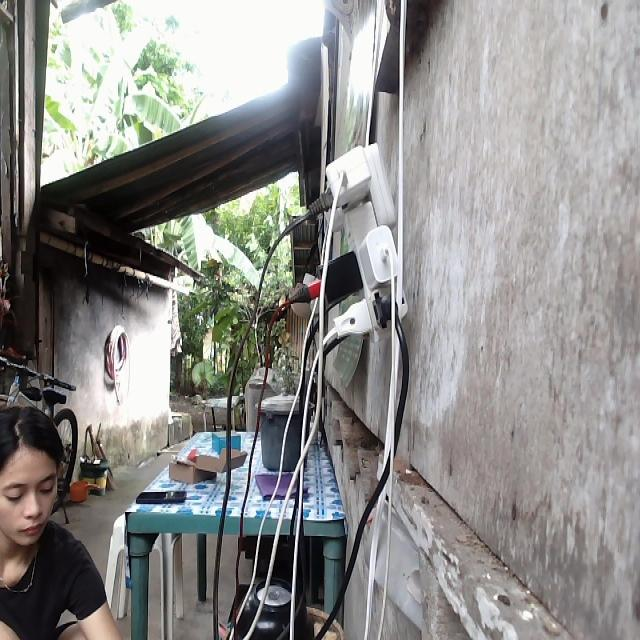-: (297, 139, 408, 353)
